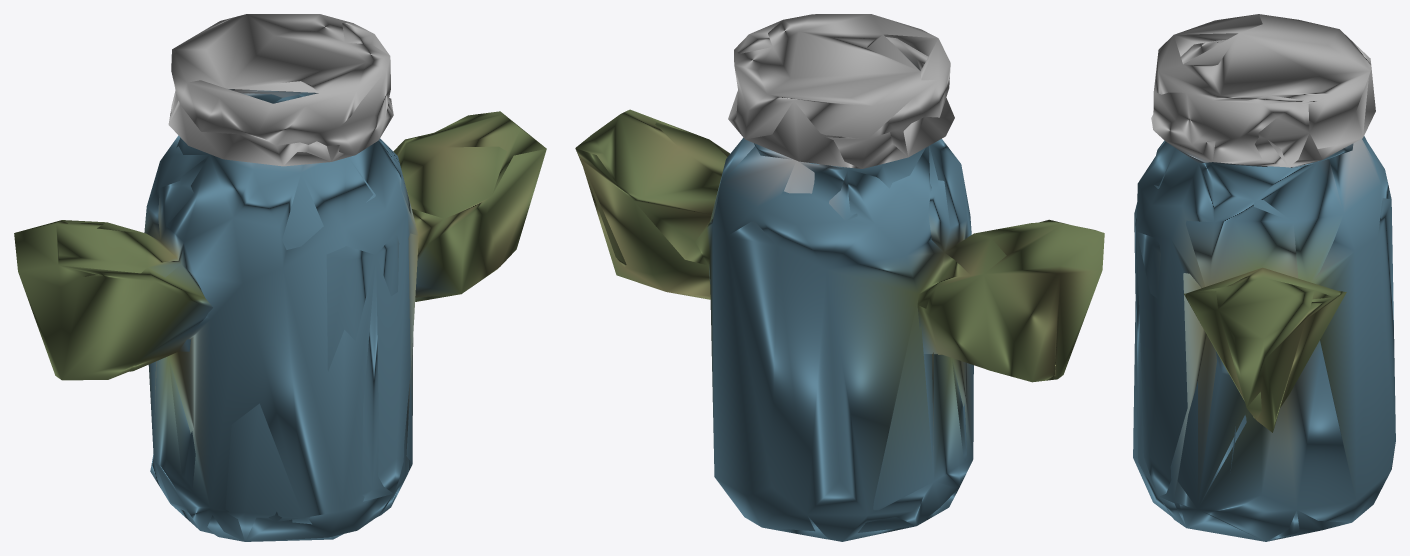
Rendered from gen3d-firefly-jar-lod1.glb.
3 renders of one model, left to right at view 1: azimuth 30°, elevation 25°; view 2: azimuth 150°, elevation 25°; view 3: azimuth 270°, elevation 25°, orthographic.
Parts seen in each view (by area): view 1: part_0; view 2: part_0; view 3: part_0.
Boxes of the visible parts, x1,y1,x2,y2 form: part_0: (14,14,546,541); part_0: (575,14,1104,541); part_0: (1133,14,1395,541).
Size of the model in its own units: 1.23 by 0.9983 by 0.5413.
